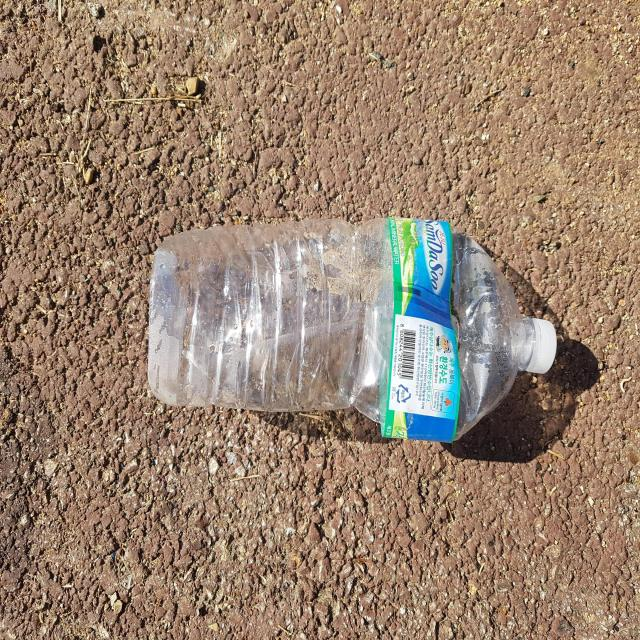plastic: (147, 218, 558, 442)
